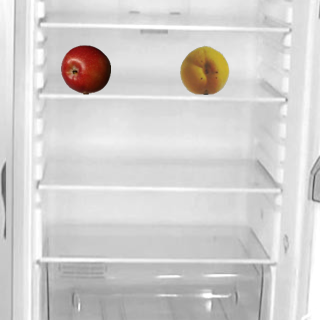Apple Braeburn: (60, 44, 110, 94)
Peach 2: (179, 44, 229, 94)
